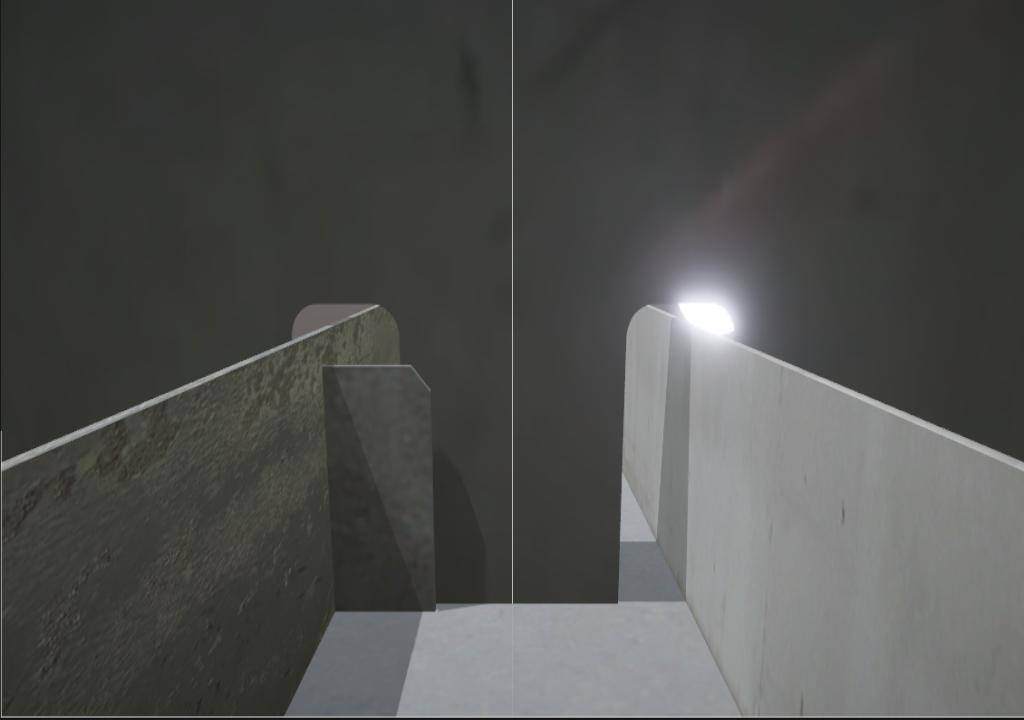fillet_yong_jeop_jang: (435, 596, 627, 608)
plate_CP03: (324, 365, 435, 611)
